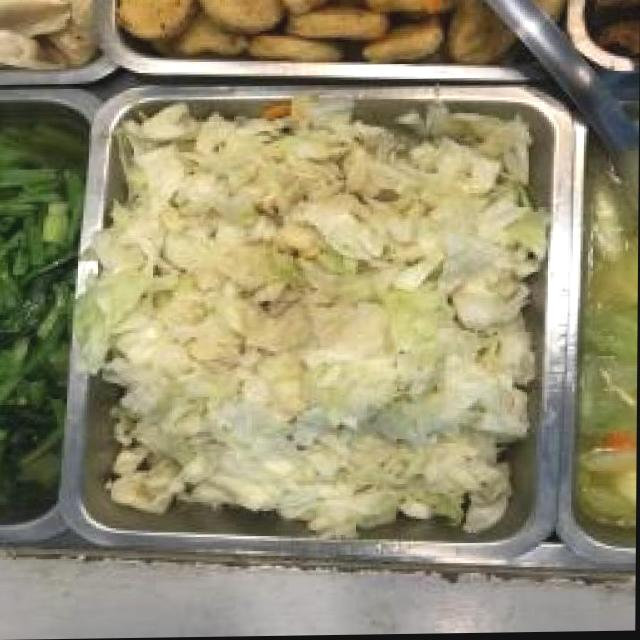chicken_nuggets: (122, 0, 475, 61)
chinese_cabbage: (137, 122, 524, 491)
water_spinach: (0, 124, 59, 508)
